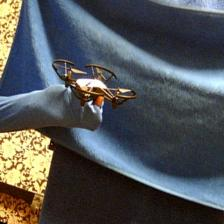drone: (52, 58, 138, 108)
